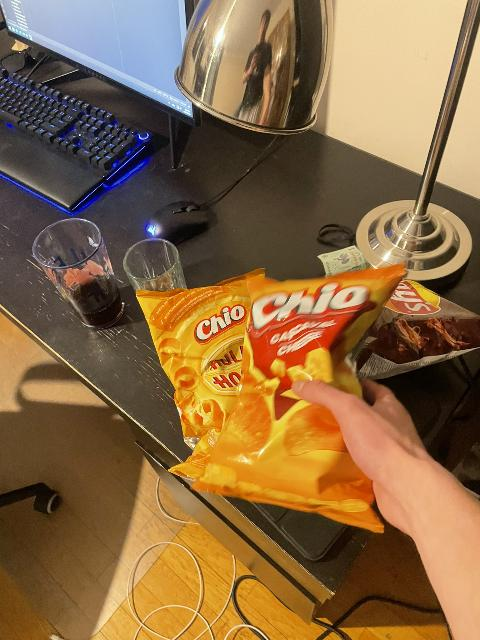Chio Cascaval 125g: (186, 267, 406, 518)
Chio Hula Hoops Cheese 70g: (141, 277, 268, 446)
Lays Beef Grilled Ribs 125g: (352, 280, 480, 375)
